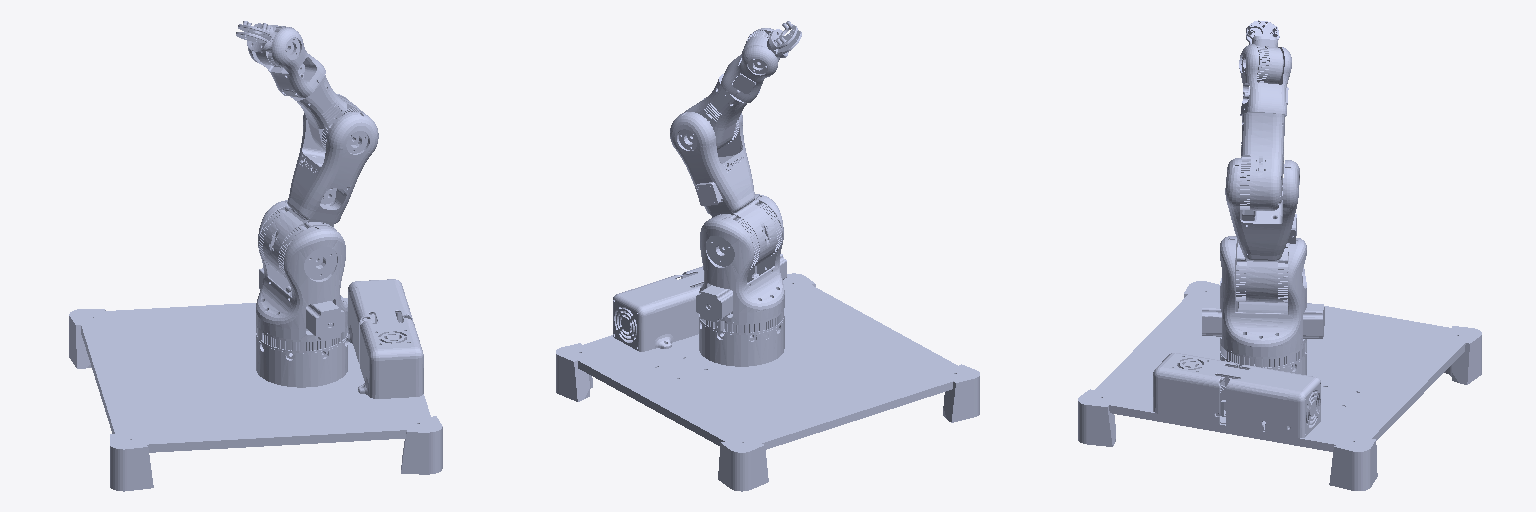
The robot description file, URDF, robot "5A Assembly3":
<?xml version="1.0" encoding="utf-8"?>
<!-- This URDF was automatically created by SolidWorks to URDF Exporter! Originally created by [author] ([email redacted]) 
     Commit Version: 1.6.0-4-g7f85cfe  Build Version: 1.6.7995.38578
     For more information, please see http://wiki.ros.org/sw_urdf_exporter -->
<robot
  name="5A Assembly3">
  <link
    name="base_link">
    <inertial>
      <origin
        xyz="-0.0548860380843249 0.13093941386242 0.123490600745143"
        rpy="0 0 0" />
      <mass
        value="14.597154271183" />
      <inertia
        ixx="0.695957973379333"
        ixy="-0.0649025967272173"
        ixz="-0.0112244947190923"
        iyy="0.473270434583888"
        iyz="-0.0216810141749484"
        izz="0.714879715191763" />
    </inertial>
    <visual>
      <origin
        xyz="0 0 0"
        rpy="0 0 0" />
      <geometry>
        <mesh
          filename="package://5A Assembly3/meshes/base_link.STL" />
      </geometry>
      <material
        name="">
        <color
          rgba="0.792156862745098 0.819607843137255 0.933333333333333 1" />
      </material>
    </visual>
    <collision>
      <origin
        xyz="0 0 0"
        rpy="0 0 0" />
      <geometry>
        <mesh
          filename="package://5A Assembly3/meshes/base_link.STL" />
      </geometry>
    </collision>
  </link>
  <link
    name="Link_1">
    <inertial>
      <origin
        xyz="-0.021301 0.065037 0.0075714"
        rpy="0 0 0" />
      <mass
        value="14.597" />
      <inertia
        ixx="0.69565"
        ixy="-0.058894"
        ixz="0.010958"
        iyy="0.47327"
        iyz="0.034841"
        izz="0.71519" />
    </inertial>
    <visual>
      <origin
        xyz="0 0 0"
        rpy="0 0 0" />
      <geometry>
        <mesh
          filename="package://5A Assembly3/meshes/Link_1.STL" />
      </geometry>
      <material
        name="">
        <color
          rgba="0.79216 0.81961 0.93333 1" />
      </material>
    </visual>
    <collision>
      <origin
        xyz="0 0 0"
        rpy="0 0 0" />
      <geometry>
        <mesh
          filename="package://5A Assembly3/meshes/Link_1.STL" />
      </geometry>
    </collision>
  </link>
  <joint
    name="Joint_1"
    type="revolute">
    <origin
      xyz="-0.035213 -0.13463 0.065903"
      rpy="1.5708 0 -0.85661" />
    <parent
      link="base_link" />
    <child
      link="Link_1" />
    <axis
      xyz="0 1 0" />
    <limit
      lower="0"
      upper="0"
      effort="0"
      velocity="0" />
  </joint>
  <link
    name="Link_2">
    <inertial>
      <origin
        xyz="0.0103079949986939 -0.10122359821804 0.0158561314021889"
        rpy="0 0 0" />
      <mass
        value="14.597154271183" />
      <inertia
        ixx="0.715780080314829"
        ixy="0.021388200911921"
        ixz="0.00320169652070024"
        iyy="0.457122372881164"
        iyz="0.0219238847969466"
        izz="0.711205669958993" />
    </inertial>
    <visual>
      <origin
        xyz="0 0 0"
        rpy="0 0 0" />
      <geometry>
        <mesh
          filename="package://5A Assembly3/meshes/Link_2.STL" />
      </geometry>
      <material
        name="">
        <color
          rgba="0.792156862745098 0.819607843137255 0.933333333333333 1" />
      </material>
    </visual>
    <collision>
      <origin
        xyz="0 0 0"
        rpy="0 0 0" />
      <geometry>
        <mesh
          filename="package://5A Assembly3/meshes/Link_2.STL" />
      </geometry>
    </collision>
  </link>
  <joint
    name="Joint_2"
    type="revolute">
    <origin
      xyz="0 0.1655 0"
      rpy="-2.7886 0.7558 3.1416" />
    <parent
      link="Link_1" />
    <child
      link="Link_2" />
    <axis
      xyz="1 0 0" />
    <limit
      lower="0"
      upper="0"
      effort="0"
      velocity="0" />
  </joint>
  <link
    name="Link_3">
    <inertial>
      <origin
        xyz="0.20022943071033 -0.0103079949986938 0.253115452864687"
        rpy="0 0 0" />
      <mass
        value="14.597154271183" />
      <inertia
        ixx="0.604661953325442"
        ixy="0.00982373505240051"
        ixz="-0.127279503360431"
        iyy="0.715780080314829"
        iyz="0.0192665572555039"
        izz="0.563666089514714" />
    </inertial>
    <visual>
      <origin
        xyz="0 0 0"
        rpy="0 0 0" />
      <geometry>
        <mesh
          filename="package://5A Assembly3/meshes/Link_3.STL" />
      </geometry>
      <material
        name="">
        <color
          rgba="0.792156862745098 0.819607843137255 0.933333333333333 1" />
      </material>
    </visual>
    <collision>
      <origin
        xyz="0 0 0"
        rpy="0 0 0" />
      <geometry>
        <mesh
          filename="package://5A Assembly3/meshes/Link_3.STL" />
      </geometry>
    </collision>
  </link>
  <joint
    name="Joint_3"
    type="revolute">
    <origin
      xyz="0 0.22112 0"
      rpy="-3.1416 -0.95068 -1.5708" />
    <parent
      link="Link_2" />
    <child
      link="Link_3" />
    <axis
      xyz="0 1 0" />
    <limit
      lower="0"
      upper="0"
      effort="0"
      velocity="0" />
  </joint>
  <link
    name="Link_4">
    <inertial>
      <origin
        xyz="0.229768913416455 -0.369352839223879 0.106888566945361"
        rpy="0 0 0" />
      <mass
        value="14.597154271183" />
      <inertia
        ixx="0.59877838195797"
        ixy="0.114168459956055"
        ixz="-0.0669283055033016"
        iyy="0.604661953325442"
        iyz="0.057115151206315"
        izz="0.680667787871573" />
    </inertial>
    <visual>
      <origin
        xyz="0 0 0"
        rpy="0 0 0" />
      <geometry>
        <mesh
          filename="package://5A Assembly3/meshes/Link_4.STL" />
      </geometry>
      <material
        name="">
        <color
          rgba="0.792156862745098 0.819607843137255 0.933333333333333 1" />
      </material>
    </visual>
    <collision>
      <origin
        xyz="0 0 0"
        rpy="0 0 0" />
      <geometry>
        <mesh
          filename="package://5A Assembly3/meshes/Link_4.STL" />
      </geometry>
    </collision>
  </link>
  <joint
    name="Joint_4"
    type="revolute">
    <origin
      xyz="-0.16912 0.002 0"
      rpy="0 -1.184 1.5708" />
    <parent
      link="Link_3" />
    <child
      link="Link_4" />
    <axis
      xyz="0 1 0" />
    <limit
      lower="0"
      upper="0"
      effort="0"
      velocity="0" />
  </joint>
  <link
    name="Link_5">
    <inertial>
      <origin
        xyz="0.3705564409974 0.106888566945361 0.30222256926485"
        rpy="0 0 0" />
      <mass
        value="14.597154271183" />
      <inertia
        ixx="0.520070664432361"
        ixy="-0.0834897515196175"
        ixz="-0.0798526767078822"
        iyy="0.680667787871572"
        iyz="-0.027766886142599"
        izz="0.683369670851052" />
    </inertial>
    <visual>
      <origin
        xyz="0 0 0"
        rpy="0 0 0" />
      <geometry>
        <mesh
          filename="package://5A Assembly3/meshes/Link_5.STL" />
      </geometry>
      <material
        name="">
        <color
          rgba="0.792156862745098 0.819607843137255 0.933333333333333 1" />
      </material>
    </visual>
    <collision>
      <origin
        xyz="0 0 0"
        rpy="0 0 0" />
      <geometry>
        <mesh
          filename="package://5A Assembly3/meshes/Link_5.STL" />
      </geometry>
    </collision>
  </link>
  <joint
    name="Joint_5"
    type="revolute">
    <origin
      xyz="0 0.05 0"
      rpy="1.5708 0 -0.38538" />
    <parent
      link="Link_4" />
    <child
      link="Link_5" />
    <axis
      xyz="0 1 0" />
    <limit
      lower="0"
      upper="0"
      effort="0"
      velocity="0" />
  </joint>
</robot>

--- What the picture shows (computed from the rendered views, not written in the file) ---
The picture shows the robot from 3 angles, left to right: view 1: azimuth 30°, elevation 25°; view 2: azimuth 150°, elevation 25°; view 3: azimuth 270°, elevation 25°; orthographic projection.
Robot: 5A Assembly3 — 6 links, 5 joints (5 revolute); root link base_link; default pose: every joint at zero.
Visible links, largest first — view 1: base_link, Link_1, Link_2, Link_4, Link_3, Link_5; view 2: base_link, Link_1, Link_2, Link_4, Link_3, Link_5; view 3: base_link, Link_1, Link_2, Link_3, Link_4, Link_5.
Link boxes in pixels (x1,y1,x2,y2): base_link: (69,279,442,491); Link_1: (256,200,347,352); Link_2: (258,94,378,278); Link_4: (248,28,325,97); Link_3: (290,75,364,151); Link_5: (236,21,293,65); base_link: (556,266,979,491); Link_1: (696,194,786,334); Link_2: (670,97,781,269); Link_4: (721,28,777,102); Link_3: (684,74,759,150); Link_5: (741,21,801,62); base_link: (1078,281,1481,490); Link_1: (1202,236,1324,368); Link_2: (1225,158,1299,302); Link_3: (1240,113,1284,210); Link_4: (1239,44,1291,116); Link_5: (1246,20,1283,83).
Bounding box of the posed robot: 0.7425 × 0.7425 × 0.7673 m (x, y, z).
Meshes: 6 distinct files referenced, 6 mesh visuals loaded (6 binary STL).